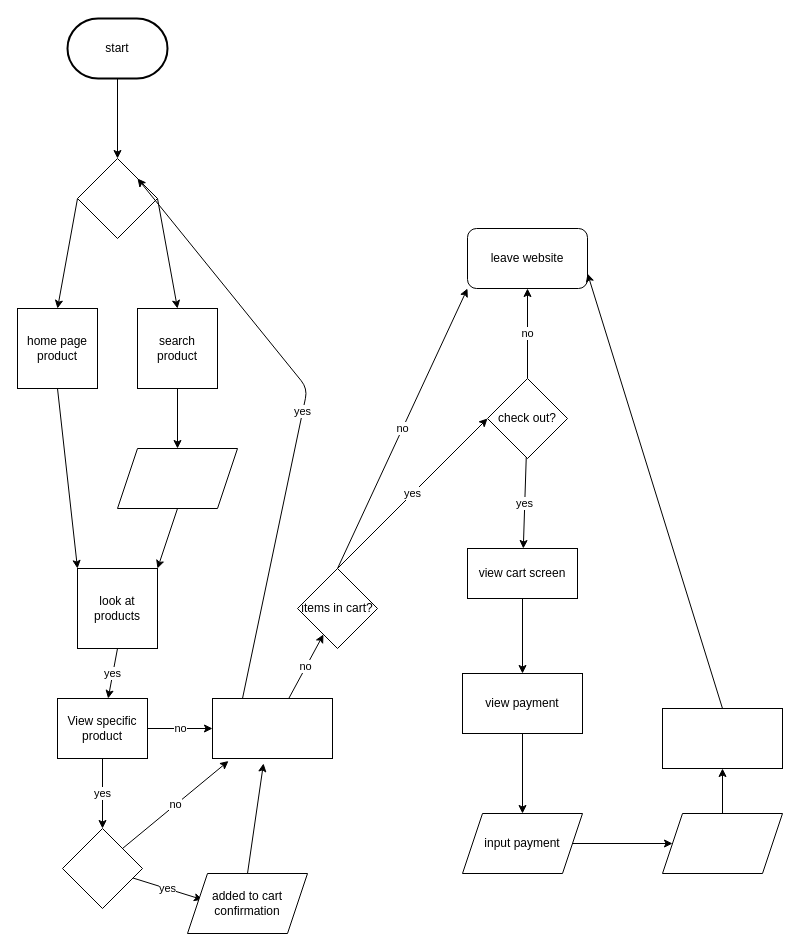
Image size: 800x951. Some labels were removed from this diagram. The centre of each missing label's shape, as x and y in pixels:
"continue shopping" goes at point (272, 728).
"enter website, search or home?" goes at point (117, 198).
"input website to search" goes at point (177, 478).
"order confimration" goes at point (722, 738).
"prod web opens, add item to cart?" goes at point (102, 868).
"send email confirmation" goes at point (722, 843).
